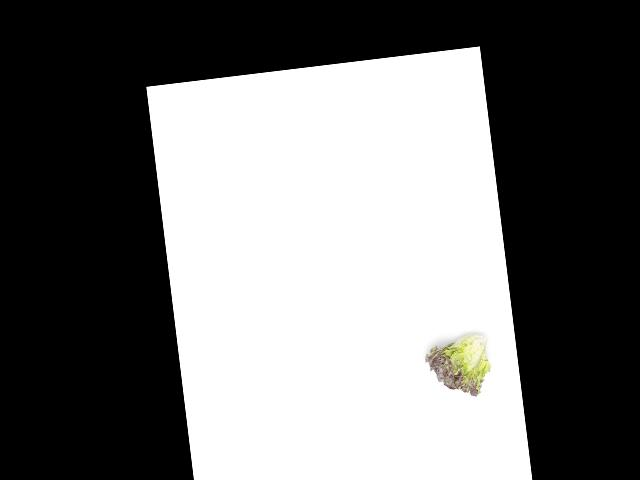lettuce: (418, 331, 496, 401)
